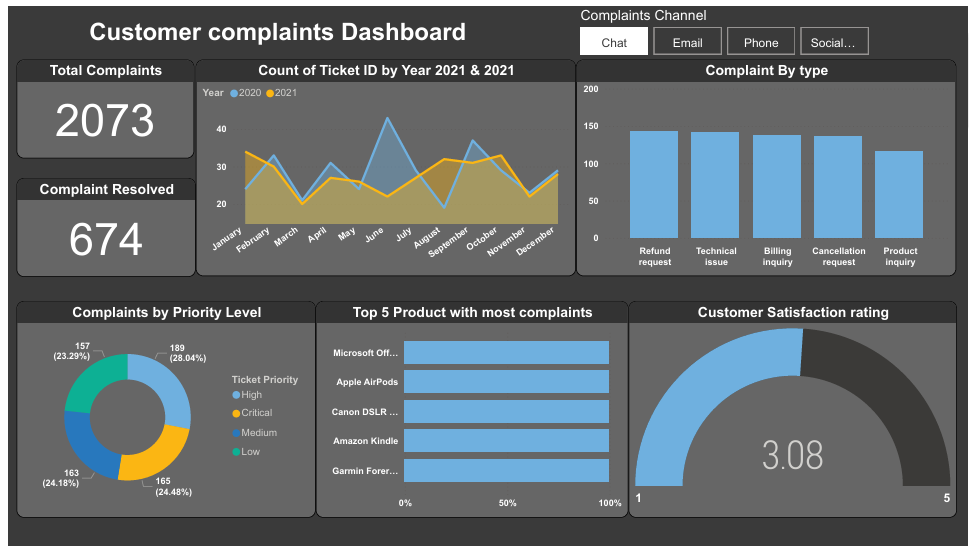

This screenshot's page, from the dashboard's own definition file:
{"tool":"powerbi","page":{"name":"Page 1","canvas":[1280,720],"ordinal":0},"visuals":[{"type":"card","title":"Total Complaints","fields":{"Values":["CountNonNull(6 1-CustomerSupportTickets.Ticket ID)"]},"box":[9.7,69.9,237,132.1],"z":0},{"type":"card","title":"Complaint Resolved","fields":{"Values":["CountNonNull(6 1-CustomerSupportTickets.Ticket ID)"]},"box":[10.1,228.4,238.6,131.6],"z":1000},{"type":"areaChart","title":"Count of Ticket ID by Year 2021 & 2021","fields":{"Y":["CountNonNull(6 1-CustomerSupportTickets.Ticket ID)"],"Category":["6 1-CustomerSupportTickets.Date of Purchase.Variation.Date Hierarchy.Month"],"Series":["6 1-CustomerSupportTickets.Date of Purchase.Variation.Date Hierarchy.Year"]},"box":[248.6,69.9,506.9,289.4],"z":2000},{"type":"columnChart","title":"Complaint By type ","fields":{"Y":["CountNonNull(6 1-CustomerSupportTickets.Ticket ID)"],"Category":["6 1-CustomerSupportTickets.Ticket Type"]},"box":[755.6,69.9,506.9,289.4],"z":3000},{"type":"donutChart","title":"Complaints by Priority Level","fields":{"Category":["6 1-CustomerSupportTickets.Ticket Priority"],"Y":["CountNonNull(6 1-CustomerSupportTickets.Ticket ID)"]},"box":[10.1,391.8,399,289.2],"z":4000},{"type":"hundredPercentStackedBarChart","title":"Top 5 Product with most complaints","fields":{"Y":["CountNonNull(6 1-CustomerSupportTickets.Ticket ID)"],"Category":["6 1-CustomerSupportTickets.Product Purchased"]},"box":[409.2,391.8,416.4,289.2],"z":5000},{"type":"gauge","title":"Customer Satisfaction rating","fields":{"Y":["Avg(6 1-CustomerSupportTickets.Customer Satisfaction Rating)"],"MinValue":["Min(6 1-CustomerSupportTickets.Customer Satisfaction Rating)1"],"MaxValue":["Max(6 1-CustomerSupportTickets.Customer Satisfaction Rating)2"]},"box":[825.5,391.8,438.1,289.2],"z":6000},{"type":"textbox","box":[0,10.1,717.1,47.7],"z":7000},{"type":"advancedSlicerVisual","title":"Complaints Channel","fields":{"Values":["6 1-CustomerSupportTickets.Ticket Channel"]},"box":[756.1,0,495.9,69.4],"z":8000}]}

Visuals, with their boxes in screenshot pixels (x1, y1, x2, y2), scaled from the page's 1280x720 canvas onto the 973x549 screenshot:
"Total Complaints" card: crop(7, 53, 188, 154)
"Complaint Resolved" card: crop(8, 174, 189, 274)
"Count of Ticket ID by Year 2021 & 2021" areaChart: crop(189, 53, 574, 274)
"Complaint By type " columnChart: crop(574, 53, 960, 274)
"Complaints by Priority Level" donutChart: crop(8, 299, 311, 519)
"Top 5 Product with most complaints" hundredPercentStackedBarChart: crop(311, 299, 628, 519)
"Customer Satisfaction rating" gauge: crop(628, 299, 961, 519)
textbox: crop(0, 8, 545, 44)
"Complaints Channel" advancedSlicerVisual: crop(575, 0, 952, 53)
